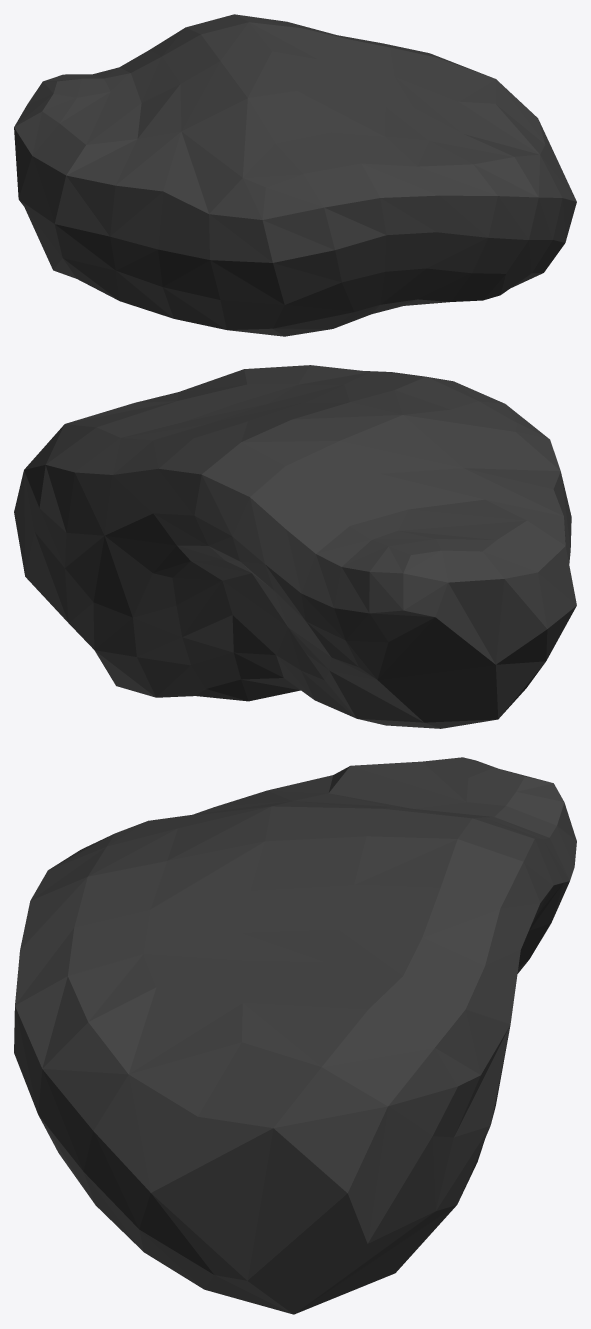
File: RFL_distal_radius.glb
3 renders of one model, top to bottom at view 1: azimuth 30°, elevation 25°; view 2: azimuth 150°, elevation 25°; view 3: azimuth 270°, elevation 25°, orthographic. The views are drawn at different scales.
Parts seen in each view (by area): view 1: RFL_distal_radius; view 2: RFL_distal_radius; view 3: RFL_distal_radius.
Boxes of the visible parts, <box> form: RFL_distal_radius: <box>14,14,576,336</box>; RFL_distal_radius: <box>14,365,576,728</box>; RFL_distal_radius: <box>14,757,576,1314</box>.
Size of the model in its own units: 15.75 by 8.41 by 11.73.
Materials: 1 (1 with a texture image).
